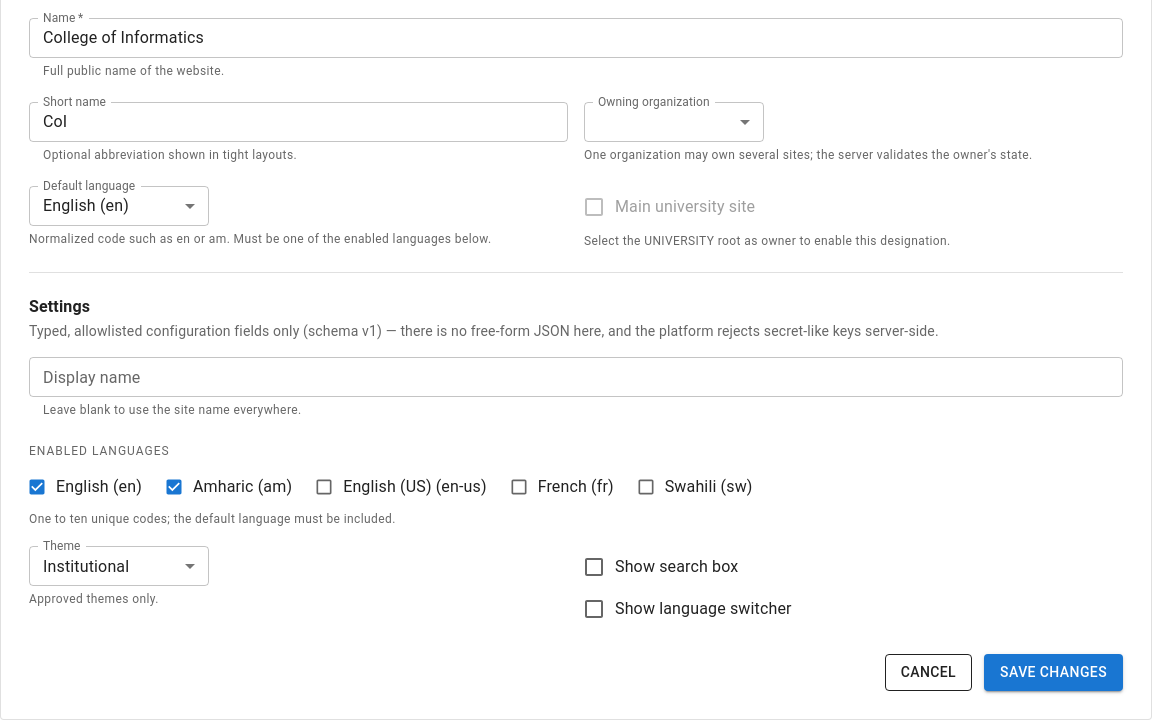
it: SiteForm — edit › does not write anything when nothing changed
The image size is (1152, 720).
(page scrolled)
Click the button "Save changes" at coordinates (1054, 673), box x1=984 y1=654 x2=1123 y2=691
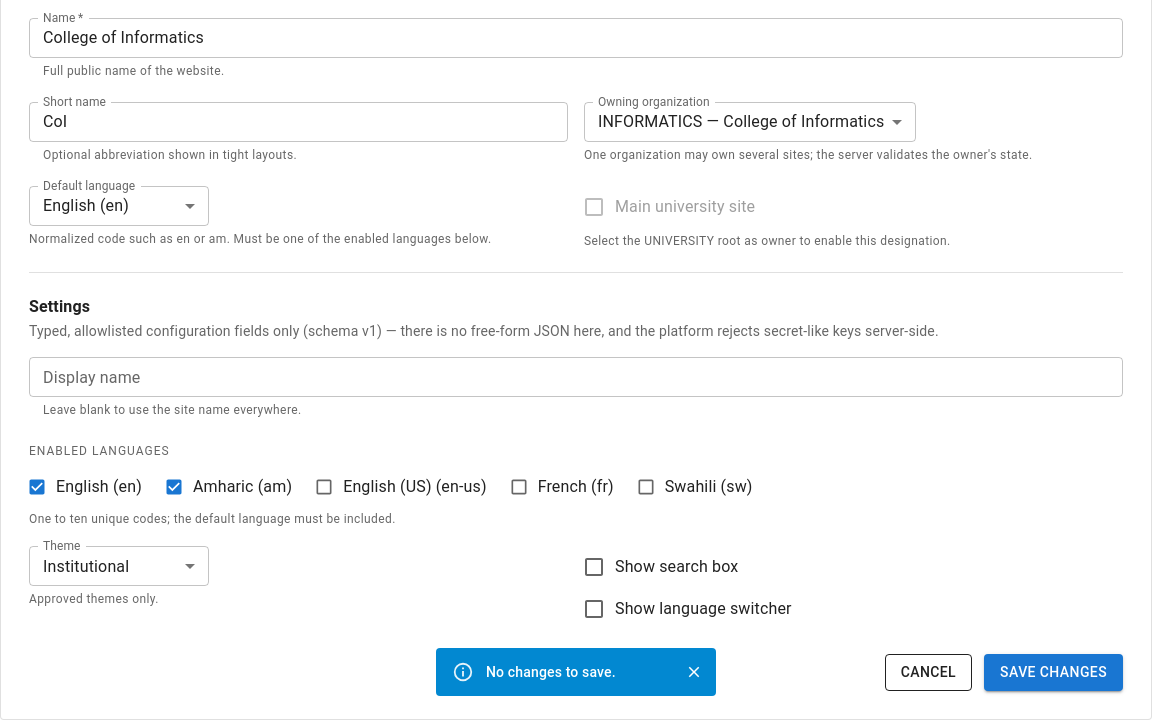
Expected: the text "No changes to save." is shown, x1=486 y1=664 x2=616 y2=680
